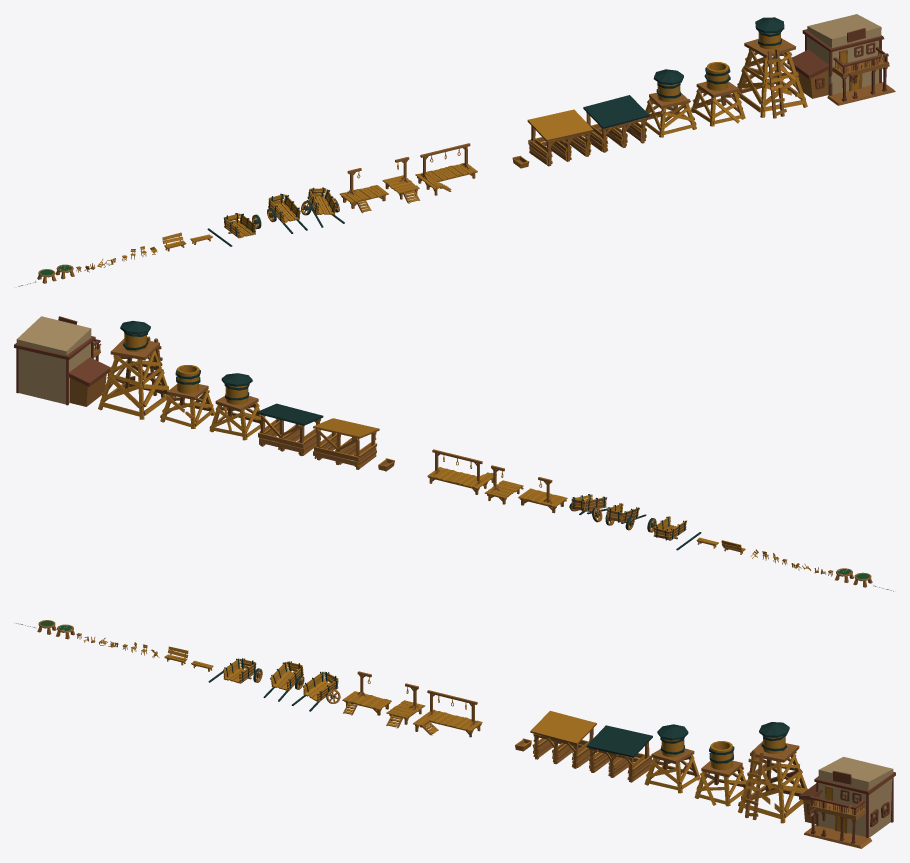
Rendered from semana_1.fbx.
3 renders of one model, top to bottom at view 1: azimuth 30°, elevation 25°; view 2: azimuth 150°, elevation 25°; view 3: azimuth 330°, elevation 25°, orthographic.
Visible parts, largest first — view 1: BancoEdificio, caixa_dagua_3, estabulo, estabulo_ferro, caixa_dagua_2, caixa_dagua_1, forca_3, carroca_quebrada, forca_2, carroca, forca_1, carroca.base; view 2: BancoEdificio, caixa_dagua_3, estabulo, estabulo_ferro, caixa_dagua_2, caixa_dagua_1, forca_3, forca_2, carroca_quebrada, forca_1, carroca; view 3: BancoEdificio, caixa_dagua_3, estabulo_ferro, estabulo, caixa_dagua_2, caixa_dagua_1, forca_3, carroca_quebrada, carroca, forca_2, forca_1, carroca.base.
Boxes of the visible parts, x1,y1,x2,y2 form: BancoEdificio: (787, 14, 895, 105); caixa_dagua_3: (737, 17, 807, 118); estabulo: (527, 109, 593, 166); estabulo_ferro: (583, 95, 649, 152); caixa_dagua_2: (645, 69, 696, 137); caixa_dagua_1: (691, 62, 745, 126); forca_3: (415, 143, 477, 195); carroca_quebrada: (301, 187, 344, 227); forca_2: (339, 168, 388, 213); carroca: (267, 193, 307, 233); forca_1: (382, 157, 420, 203); carroca.base: (223, 213, 255, 238); BancoEdificio: (14, 316, 110, 406); caixa_dagua_3: (98, 321, 168, 419); estabulo: (313, 418, 379, 469); estabulo_ferro: (257, 403, 323, 456); caixa_dagua_2: (209, 373, 265, 440); caixa_dagua_1: (160, 365, 214, 428); forca_3: (427, 449, 496, 494); forca_2: (518, 477, 567, 513); carroca_quebrada: (569, 494, 607, 522); forca_1: (484, 465, 523, 504); carroca: (605, 503, 646, 530); BancoEdificio: (799, 756, 895, 848); caixa_dagua_3: (738, 722, 807, 823); estabulo_ferro: (586, 725, 652, 782); estabulo: (530, 711, 596, 768); caixa_dagua_2: (644, 724, 700, 793); caixa_dagua_1: (694, 741, 746, 806); forca_3: (413, 690, 482, 737); carroca_quebrada: (291, 671, 340, 711); carroca: (263, 661, 304, 701); forca_2: (342, 671, 391, 715); forca_1: (386, 683, 425, 728); carroca.base: (223, 658, 256, 683).
Bounding box in the file's own units: 11875 × 1111 × 1009.
